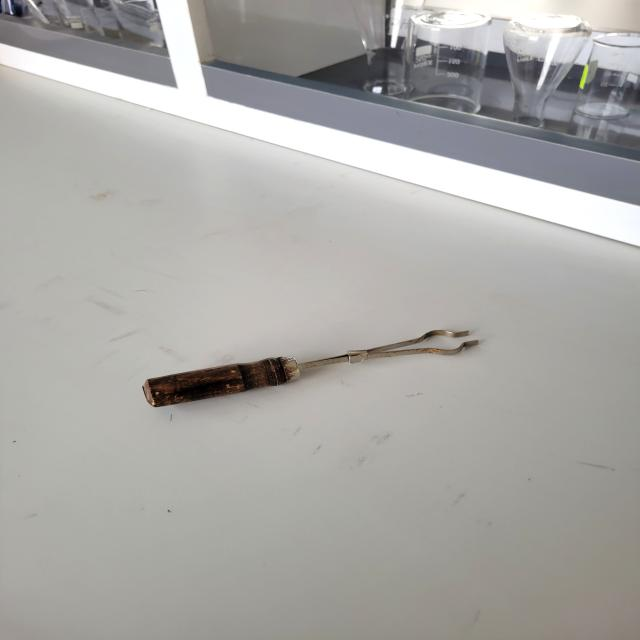TestTube_Holder: (108, 311, 534, 430)
